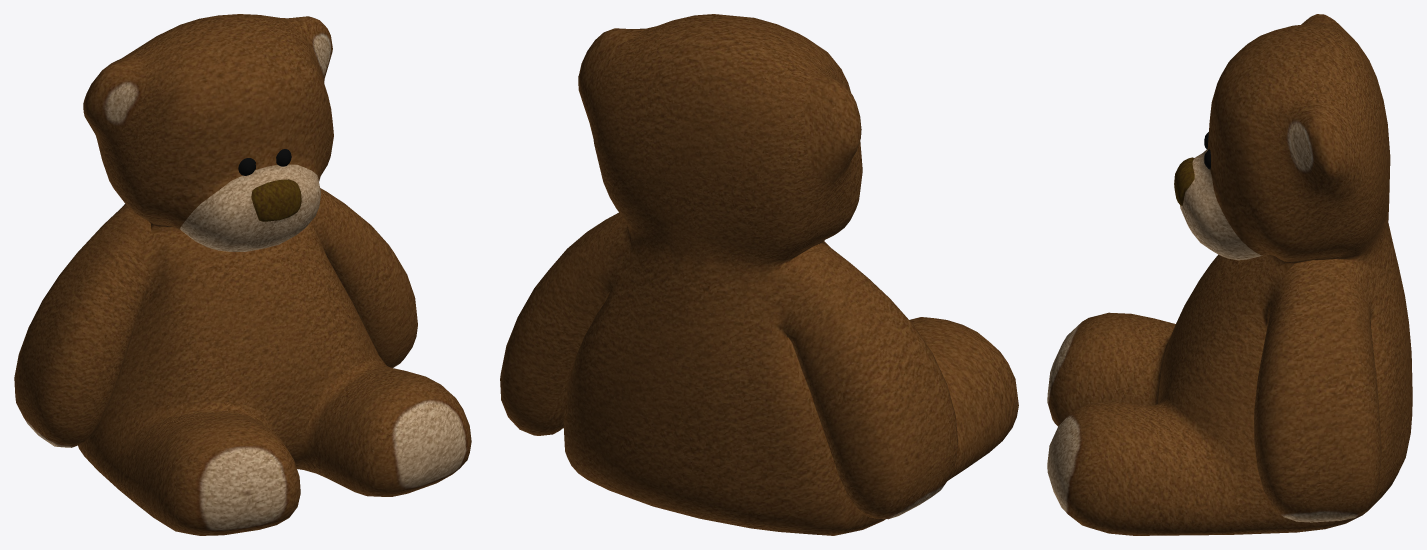
The model's file is Teddy_LOD1.fbx.
The picture shows the model from 3 angles, left to right: view 1: azimuth 30°, elevation 25°; view 2: azimuth 150°, elevation 25°; view 3: azimuth 270°, elevation 25°; orthographic projection. The views are drawn at different scales.
Parts seen in each view (by area): view 1: Cube; view 2: Cube; view 3: Cube.
Boxes of the visible parts, <box> form: Cube: <box>14,14,471,535</box>; Cube: <box>500,14,1018,535</box>; Cube: <box>1047,14,1412,535</box>.
Bounding box in the file's own units: 419 × 440 × 338.
